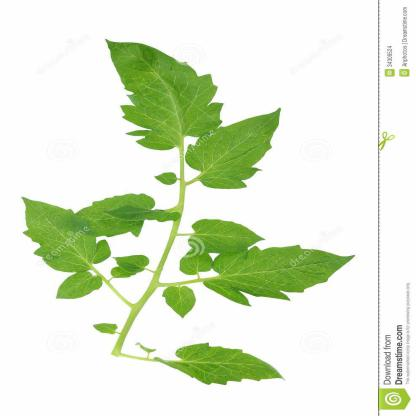tomato leaf: (83, 31, 220, 154), (175, 104, 297, 205), (202, 246, 364, 308), (162, 332, 293, 396), (17, 188, 110, 278), (76, 180, 164, 242), (178, 214, 279, 263)
